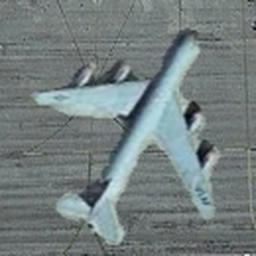Airplane: (30, 26, 222, 246)
